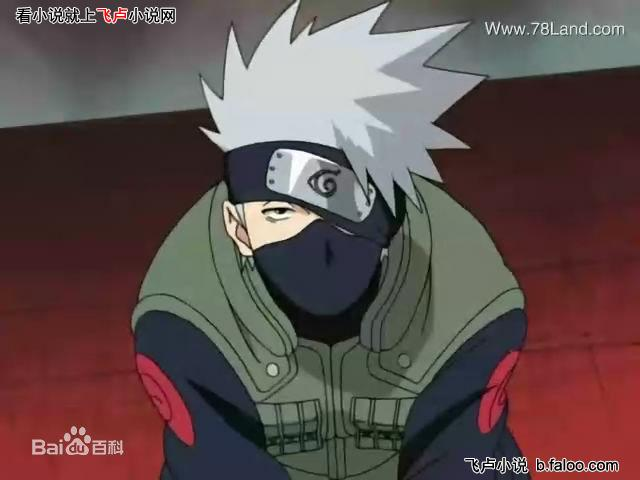kakashi: (218, 138, 409, 331)
